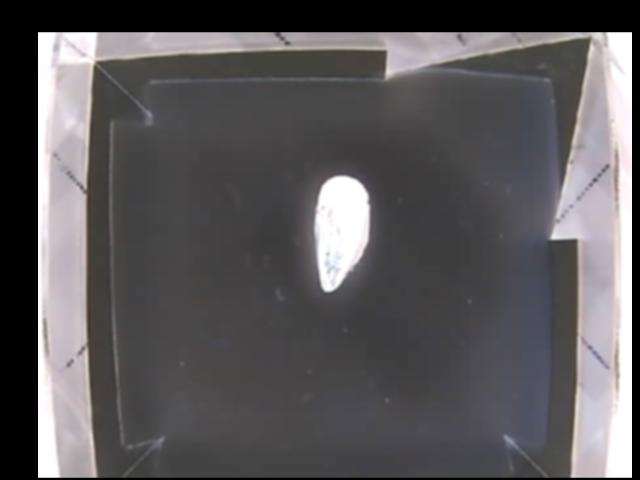Shell: (316, 176, 371, 293)
